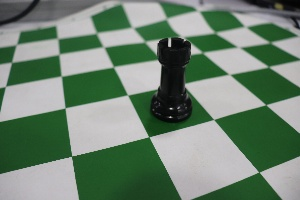black_rook: (146, 22, 199, 132)
